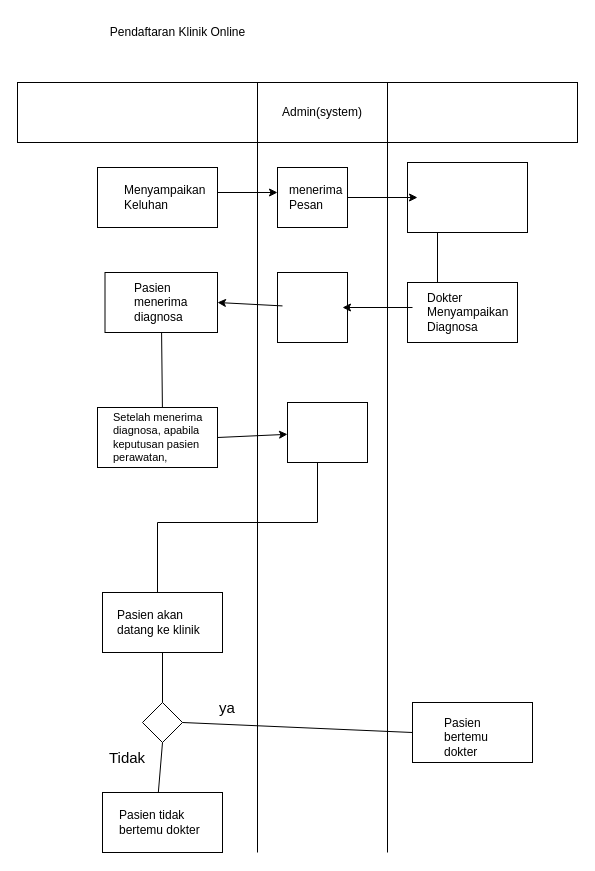
The diagram is 595 pixels wide and 871 high, and some of its shapes have lost their labels. The shapes that lost their labels are listed below. From the top down, each one's box as (x1, y1, x2, y2) in pixels, then its label:
(16, 82, 258, 142): Pasien
(386, 82, 578, 142): Dokter
(406, 162, 528, 232): Dokter menerima pesan dari admin
(276, 272, 348, 342): Admin menerima pesan dari dokter
(286, 402, 368, 462): Admin akan mengaturkan jadwal
